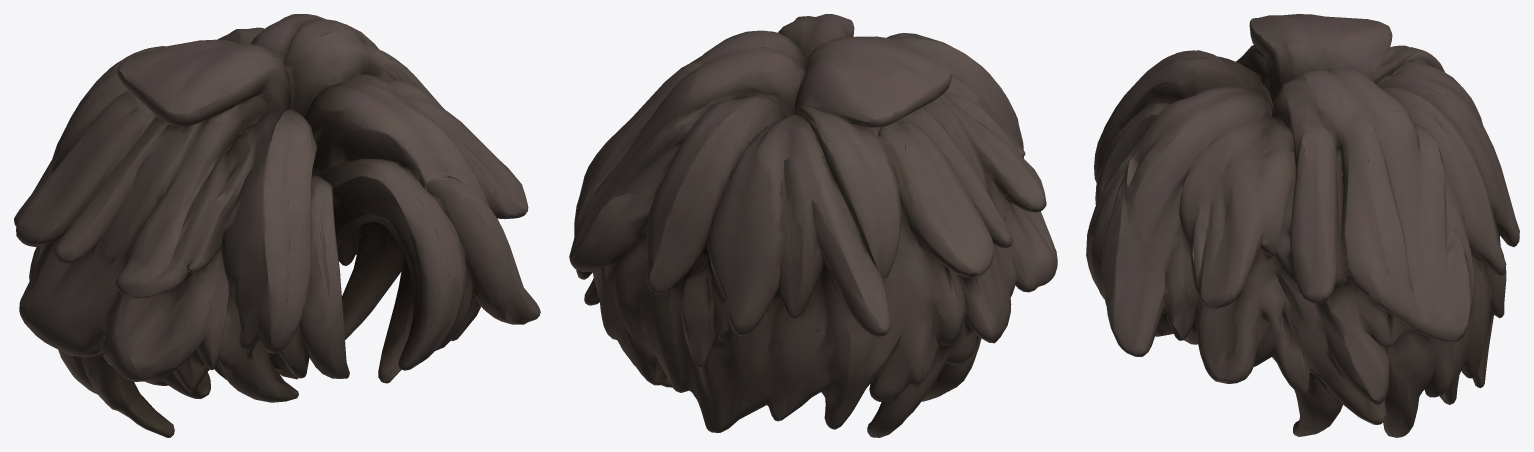
The model's file is hair_m02.glb.
The picture shows the model from 3 angles, left to right: view 1: azimuth 30°, elevation 25°; view 2: azimuth 150°, elevation 25°; view 3: azimuth 270°, elevation 25°; orthographic projection. The views are drawn at different scales.
Visible parts, largest first — view 1: hair; view 2: hair; view 3: hair.
Part boxes in pixels (x1=…): hair: x1=14, y1=14, x2=540, y2=437; hair: x1=569, y1=14, x2=1057, y2=437; hair: x1=1086, y1=14, x2=1519, y2=437.
Size of the model in its own units: 3.01 by 2.39 by 2.75.
Materials: 1 (1 with a texture image).
